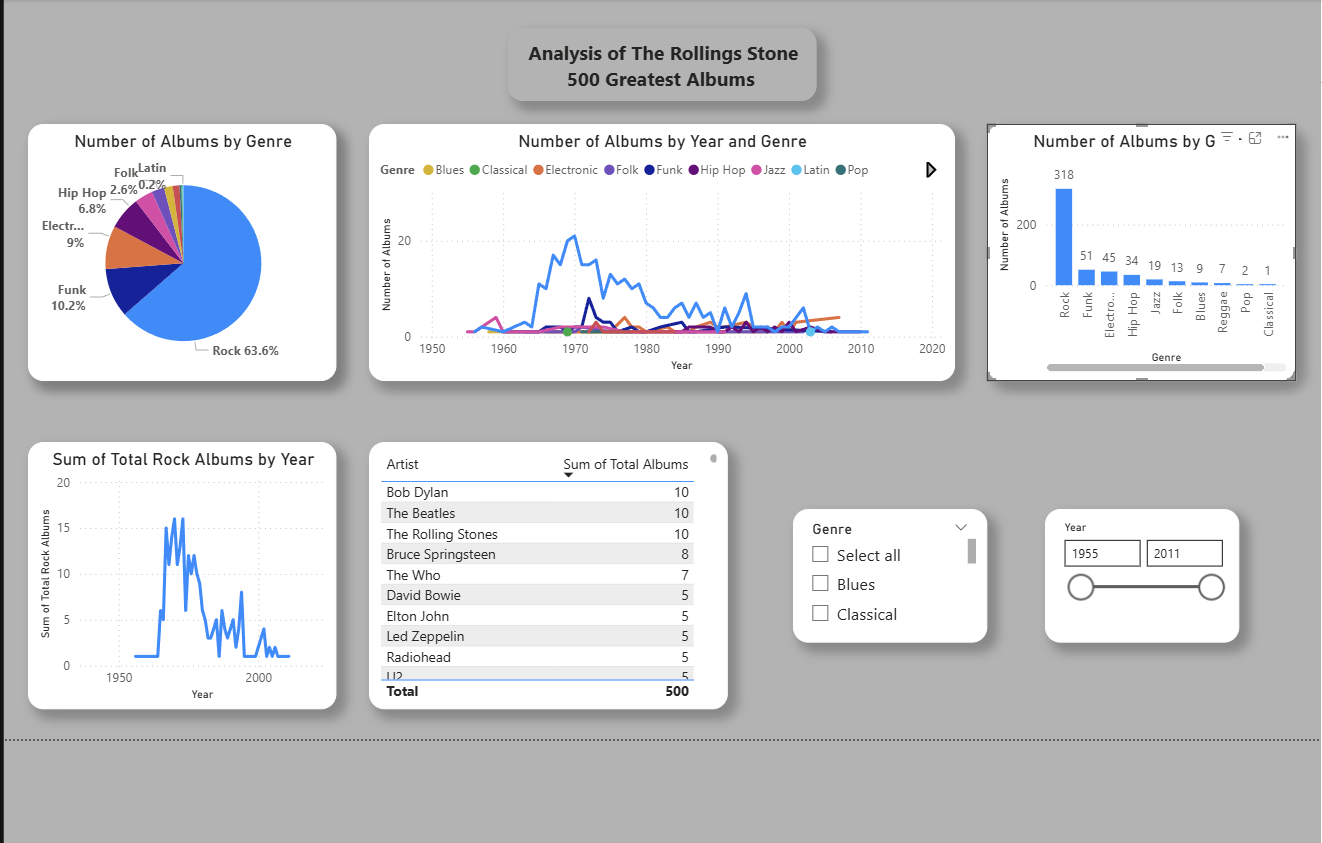

This screenshot's page, from the dashboard's own definition file:
{"tool":"powerbi","page":{"name":"Page 1","canvas":[1280,720],"ordinal":0},"visuals":[{"type":"pieChart","fields":{"Category":["albumlist (2).Genre.1.1"],"Y":["albumlist (2).Number"]},"box":[23.3,121.5,300.3,249.8],"z":0},{"type":"clusteredColumnChart","fields":{"Category":["albumlist (2).Genre.1.1"],"Y":["albumlist (2).Number"]},"box":[956.4,121.5,300.3,249.8],"z":1000},{"type":"lineChart","title":"Number of Albums by Year and Genre","fields":{"Category":["albumlist (2).Year"],"Y":["albumlist (2).Genre.1.1"],"Series":["albumlist (2).Genre.1.1"]},"box":[355.2,121.5,569.5,249.8],"z":3000},{"type":"slicer","fields":{"Values":["albumlist (2).Genre.1.1"]},"box":[767.8,495.7,188.5,130.2],"z":3001},{"type":"tableEx","fields":{"Values":["AlbumCount.Artist","AlbumCount.Total Albums"]},"box":[354.7,430.6,348.9,260.5],"z":3002},{"type":"lineChart","fields":{"Y":["RockAndRollYearlyCount.Total Albums"],"Category":["RockAndRollYearlyCount.Year"]},"box":[23.3,430.6,300.3,260.5],"z":3003},{"type":"slicer","fields":{"Values":["albumlist.Year"]},"box":[1012.7,495.7,188.5,130.2],"z":3004},{"type":"textbox","box":[489.8,28.2,300.3,70.9],"z":3005}]}

Visuals, with their boxes in screenshot pixels (x1, y1, x2, y2):
pieChart - albumlist (2).Genre.1.1 x albumlist (2).Number: (0,124,305,378)
clusteredColumnChart - albumlist (2).Genre.1.1 x albumlist (2).Number: (950,124,1256,378)
"Number of Albums by Year and Genre" lineChart: (338,124,918,378)
slicer - albumlist (2).Genre.1.1: (758,505,950,637)
tableEx - AlbumCount.Artist x AlbumCount.Total Albums: (337,439,693,704)
lineChart - RockAndRollYearlyCount.Total Albums x RockAndRollYearlyCount.Year: (0,439,305,704)
slicer - albumlist.Year: (1007,505,1199,637)
textbox: (475,29,781,101)
